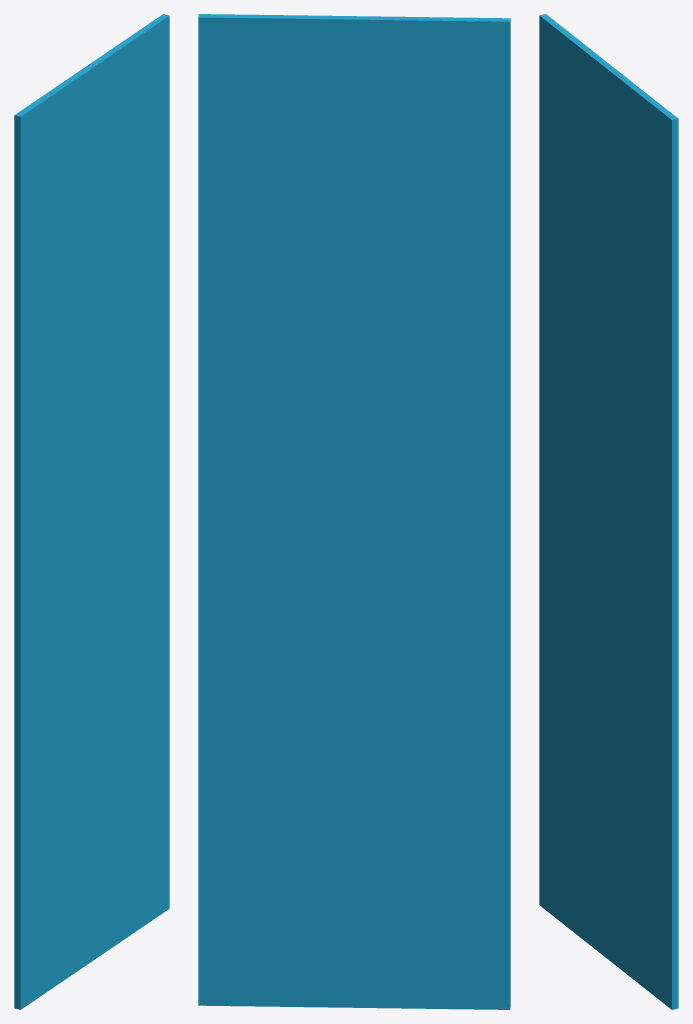
3 views of the same model, side by side, from view 1: azimuth 30°, elevation 25°; view 2: azimuth 150°, elevation 25°; view 3: azimuth 270°, elevation 25° (orthographic). The views are drawn at different scales.
Parts seen in each view (by area): view 1: Visual_Cube; view 2: Visual_Cube; view 3: Visual_Cube.
Part boxes in pixels (box(x1,y1,x2,y2)): Visual_Cube: box(14, 14, 169, 1009); Visual_Cube: box(198, 14, 510, 1009); Visual_Cube: box(539, 14, 678, 1009).
Size of the model in its own units: 67.52 by 264 by 37.37.
